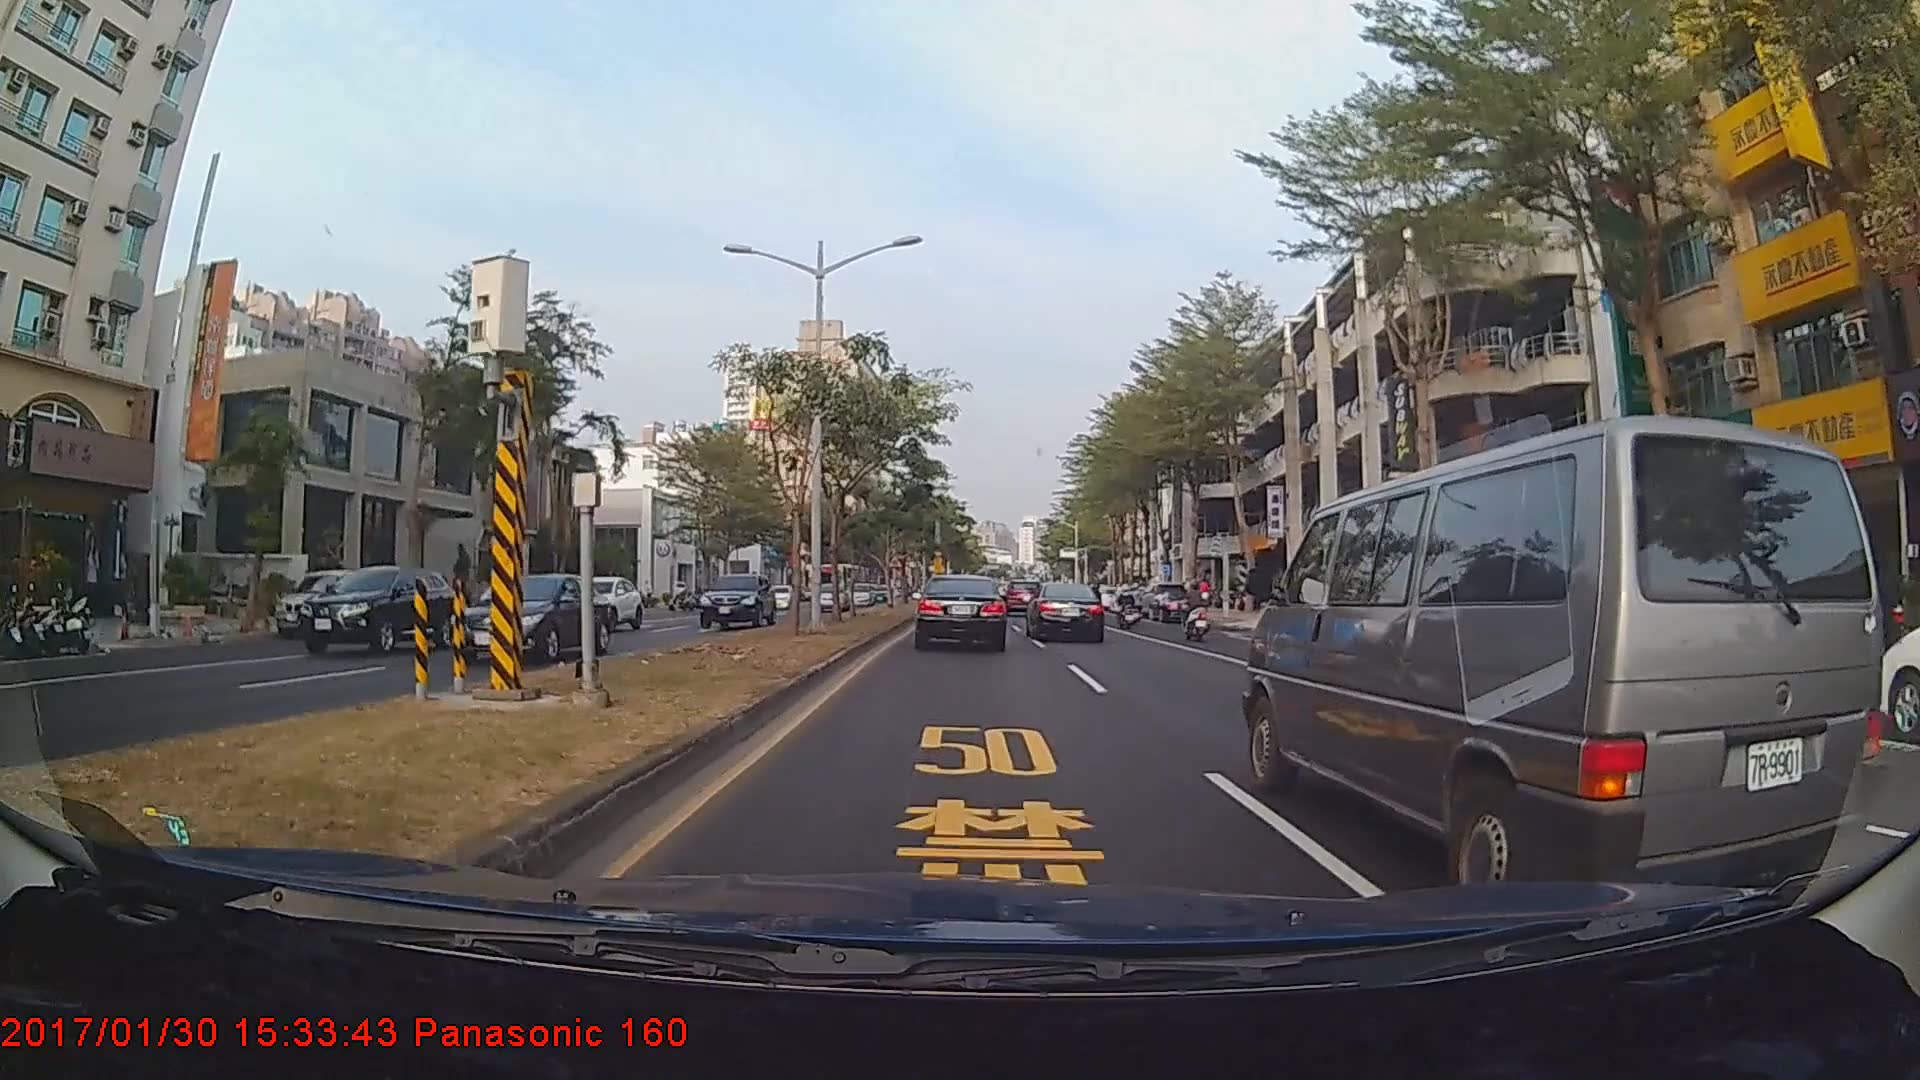rider: (1173, 580, 1217, 644)
vehicle: (1245, 400, 1867, 893), (292, 563, 458, 657), (448, 572, 614, 666), (272, 568, 387, 639), (916, 573, 1006, 650), (1027, 581, 1105, 643), (559, 576, 644, 632), (698, 574, 776, 630), (1141, 592, 1202, 626), (1003, 577, 1043, 613)
